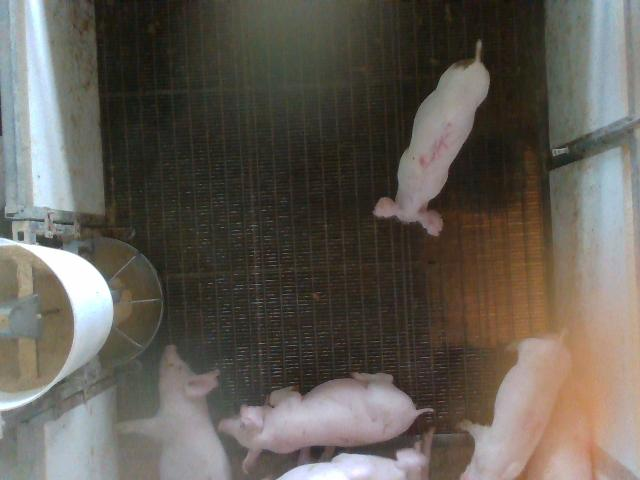pig-4: (460, 335, 571, 478)
pig-5: (374, 40, 490, 236)
